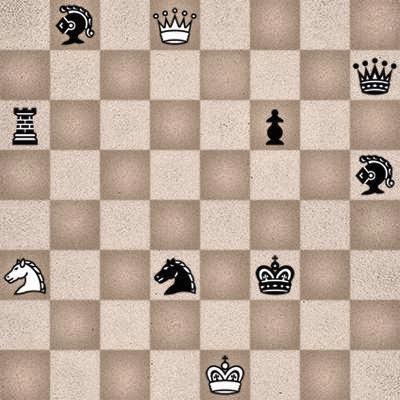black-bishop: (50, 0, 100, 50), (350, 150, 400, 200)
black-king: (250, 250, 300, 300)
black-knight: (150, 250, 200, 300)
black-pawn: (250, 100, 300, 150)
black-queen: (350, 50, 400, 100)
black-rook: (0, 100, 50, 150)
white-king: (200, 350, 250, 400)
white-knight: (0, 250, 50, 300)
white-queen: (150, 0, 200, 50)
